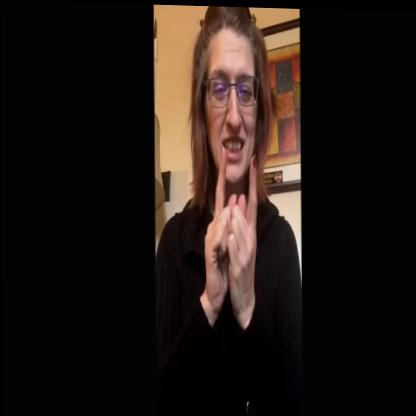NiceToMeetYou: (198, 127, 271, 329)
